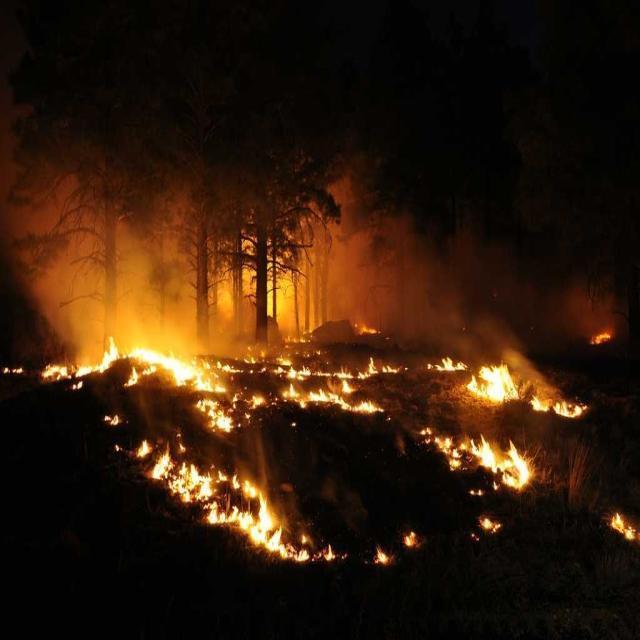Fire: (130, 337, 198, 369), (480, 364, 515, 406)
